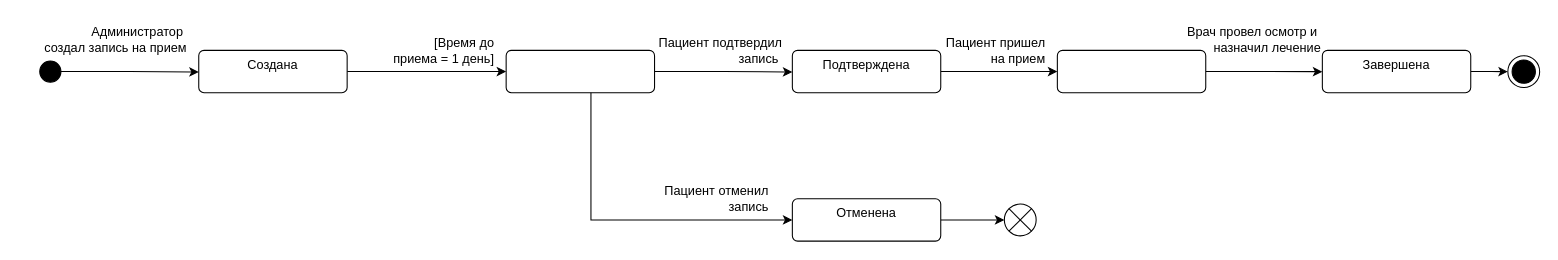
The diagram is 1558 pixels wide and 260 high, and some of its shapes have lost their labels. Here are the shapes that lost their labels. From the top down, the centre of each, then its label:
At (580,71): "Ожидает подтверждения".
At (1131,71): "В работе".
